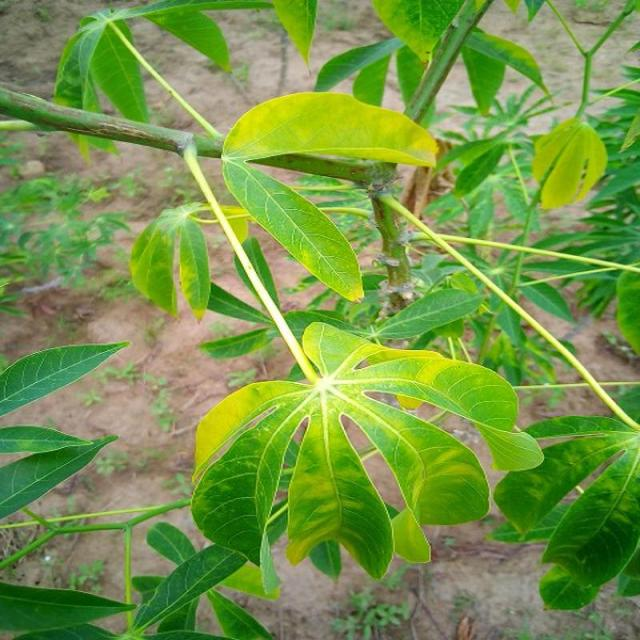cassava leaf: (190, 319, 544, 584), (221, 88, 440, 303)
